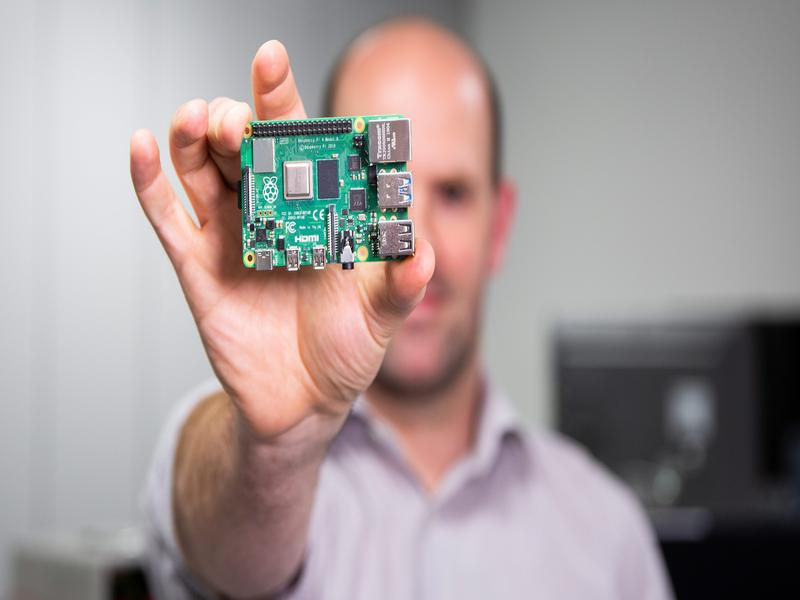Raspberry_Pi_3: (228, 114, 424, 277)
